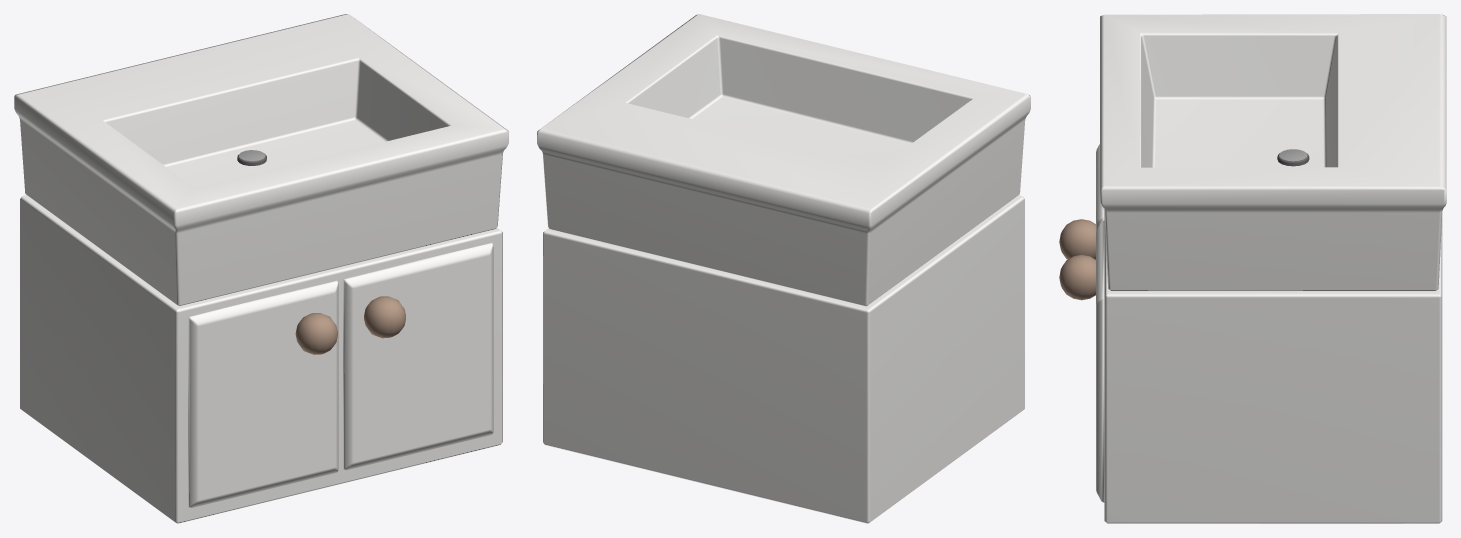
File: Drawer_brown_2.glb
3 renders of one model, left to right at view 1: azimuth 30°, elevation 25°; view 2: azimuth 150°, elevation 25°; view 3: azimuth 270°, elevation 25°, orthographic. The views are drawn at different scales.
Visible parts, largest first — view 1: Washstand_2; view 2: Washstand_2; view 3: Washstand_2.
Boxes of the visible parts, <box> form: Washstand_2: <box>14,14,508,523</box>; Washstand_2: <box>537,14,1030,523</box>; Washstand_2: <box>1059,14,1446,523</box>.
Size of the model in its own units: 1.13 by 1.02 by 1.06.
1 material, 1 textured.
